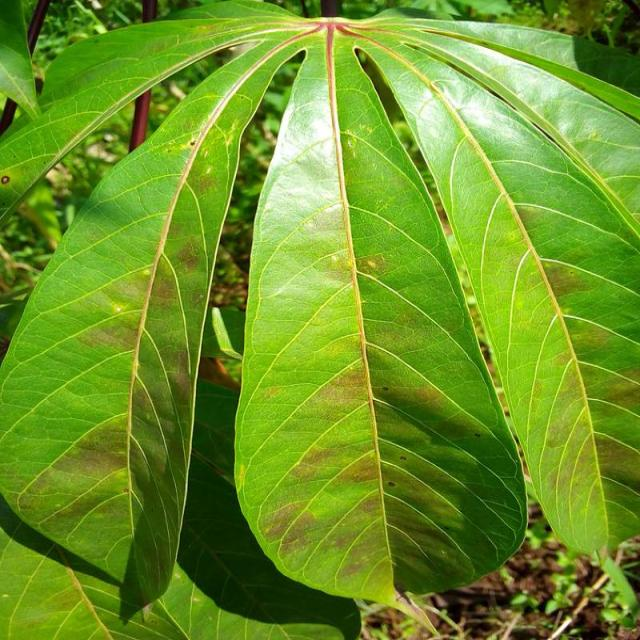cassava leaf: (2, 5, 639, 628), (1, 21, 319, 614), (232, 27, 530, 607)
